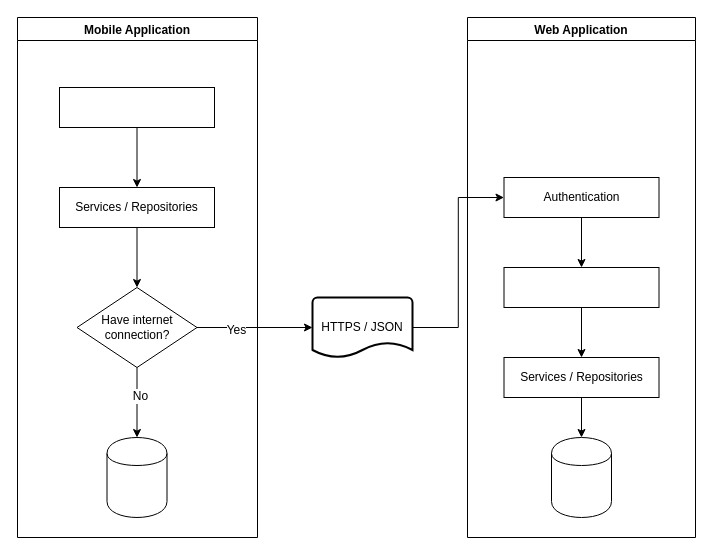
Image size: 713x555. Some labels were removed from this diagram. The shapes that lost their labels are listed below. From the top down, each one's centre as x and y in pixels, then its label:
At (136,107): "User Interface".
At (581,287): "Public API".
At (136,477): "Local DB".
At (581,477): "Remote DB".
